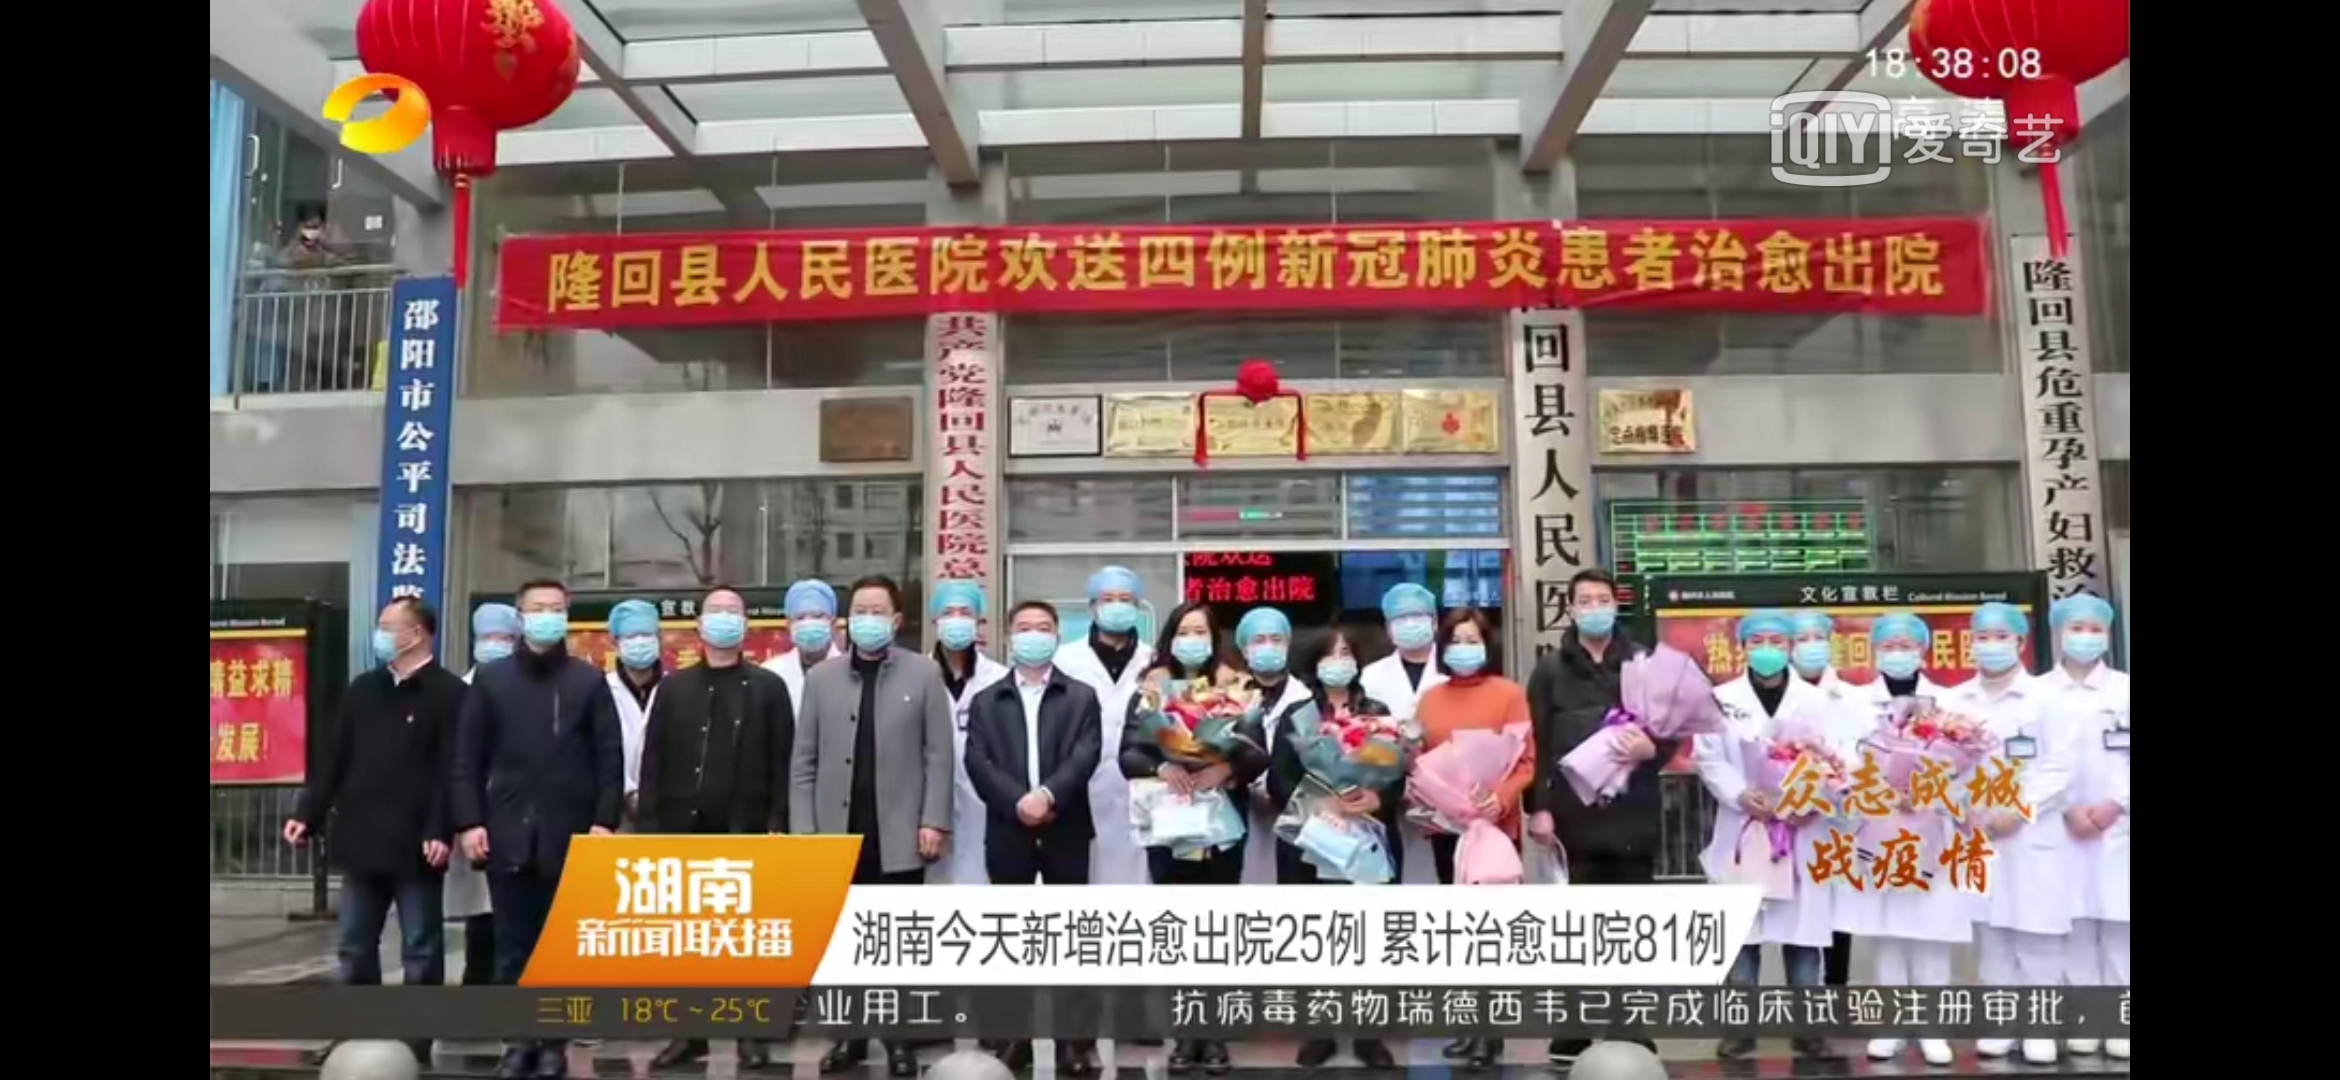correctlyWear: (1743, 622, 1801, 679), (848, 594, 901, 653), (2055, 613, 2116, 665), (1795, 621, 1849, 679), (1870, 628, 1930, 680), (1965, 621, 2025, 673), (1382, 603, 1442, 653), (786, 600, 839, 656), (695, 595, 749, 647), (369, 612, 424, 662), (1007, 615, 1063, 665), (1568, 583, 1624, 634), (612, 618, 669, 665), (1240, 622, 1291, 674), (1312, 638, 1361, 692), (1089, 583, 1142, 632), (521, 597, 569, 650), (469, 615, 519, 664), (1443, 624, 1491, 676), (933, 600, 980, 650), (1167, 621, 1216, 667)
